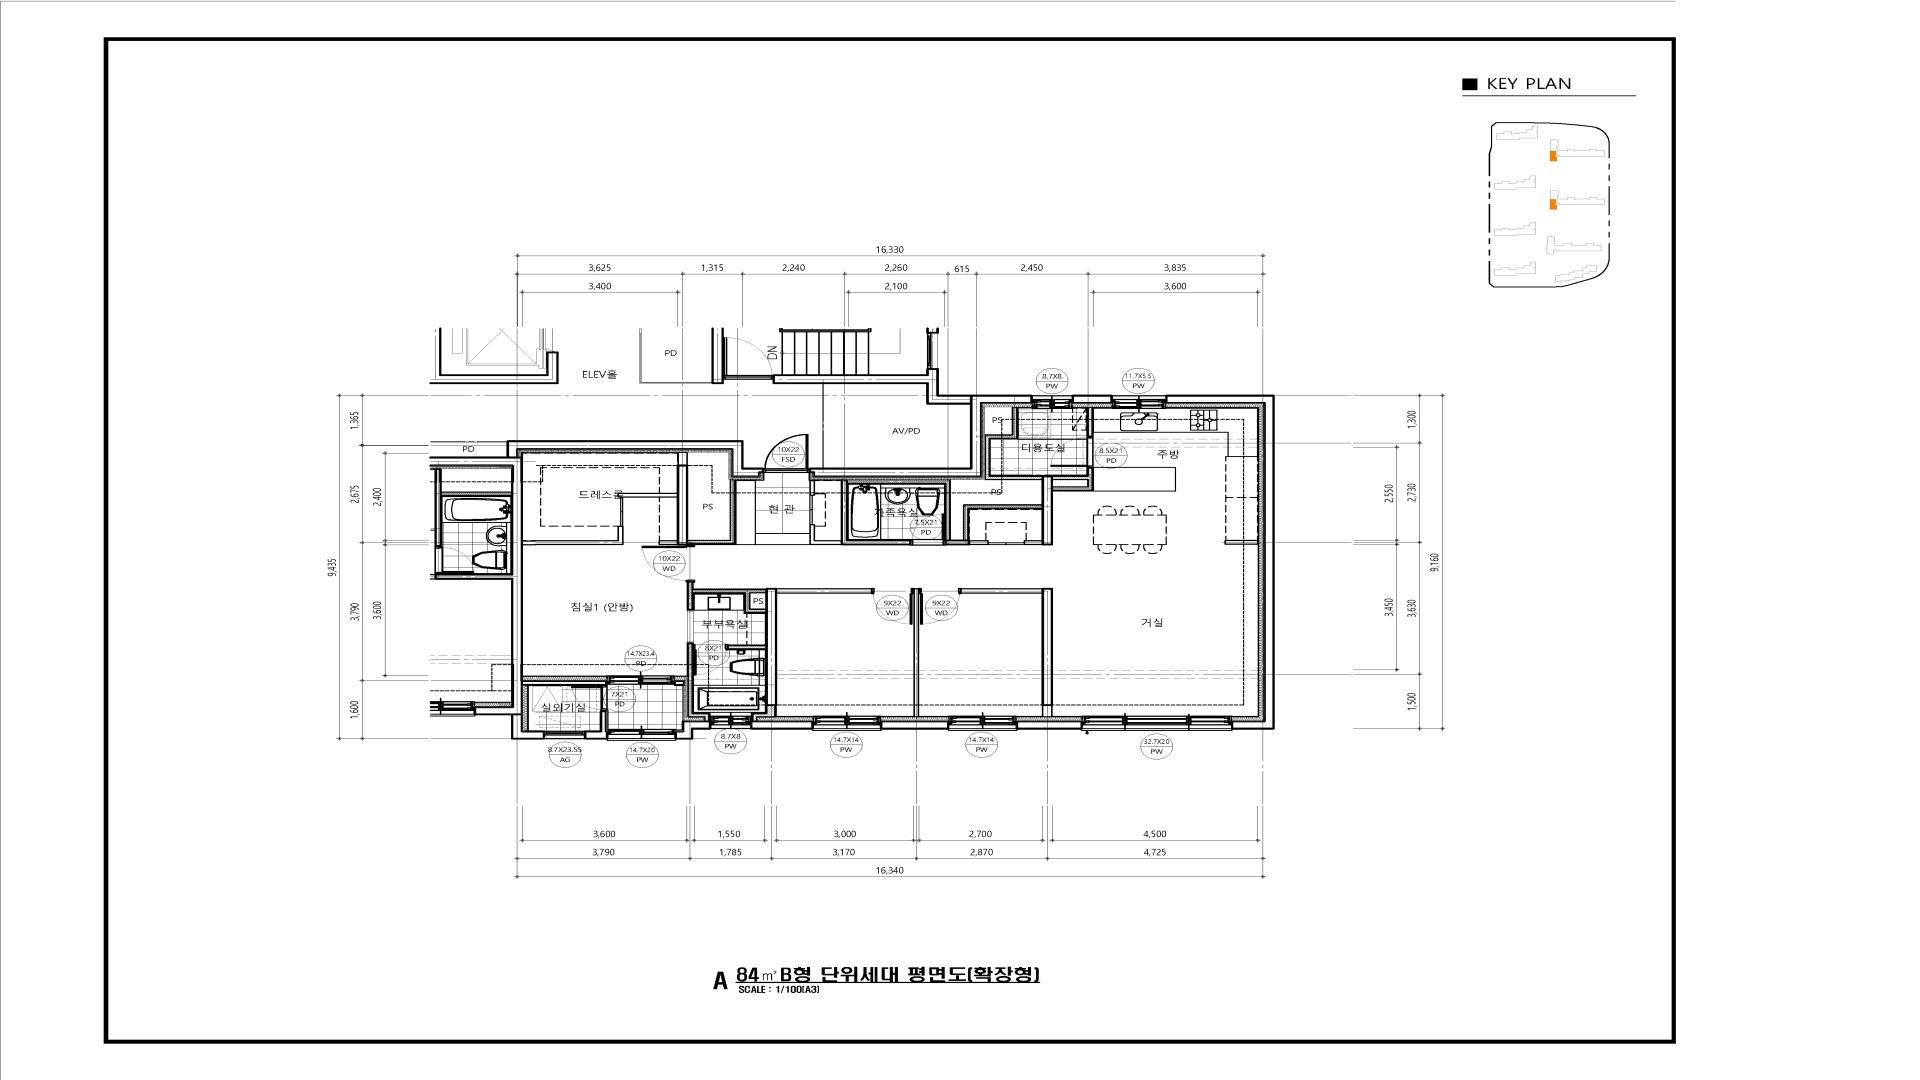door: (642, 545, 695, 582), (764, 434, 810, 473), (870, 588, 914, 625), (919, 588, 961, 625), (1050, 436, 1095, 467), (910, 513, 944, 546), (694, 644, 728, 675), (571, 686, 608, 711), (687, 611, 694, 642), (620, 497, 624, 526), (989, 542, 1023, 545), (810, 496, 812, 524)
wall: (506, 440, 764, 740), (810, 407, 1095, 546), (1166, 394, 1275, 729), (687, 582, 870, 720), (810, 394, 1033, 477), (961, 588, 1054, 717), (617, 452, 737, 545), (524, 526, 624, 545), (687, 642, 711, 720), (675, 720, 711, 740), (584, 711, 608, 740), (914, 588, 919, 717), (881, 720, 948, 729), (1017, 720, 1081, 729), (750, 720, 814, 729), (1072, 394, 1113, 404), (1087, 407, 1093, 436), (1224, 539, 1259, 545), (810, 479, 815, 496), (675, 680, 686, 686)
window: (1081, 716, 1232, 731), (948, 716, 1017, 731), (814, 716, 881, 731), (608, 729, 675, 741), (1113, 394, 1166, 409), (607, 675, 675, 686), (1033, 394, 1072, 409), (711, 716, 750, 729), (545, 731, 584, 740)
